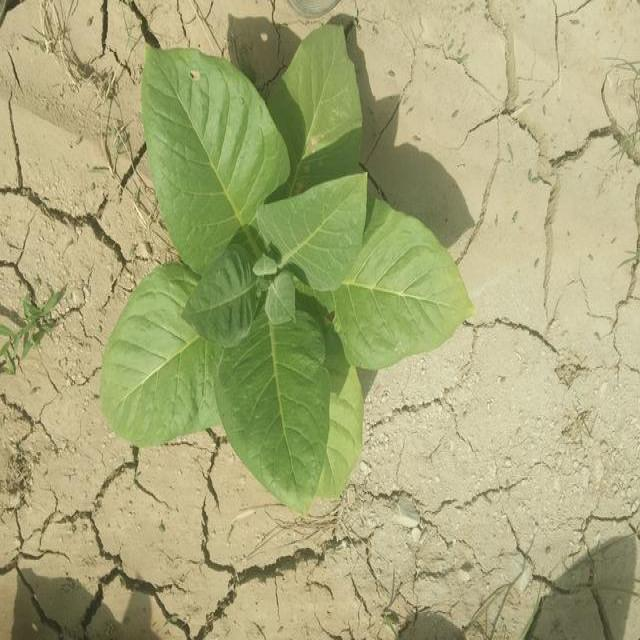crop: (120, 28, 475, 506)
